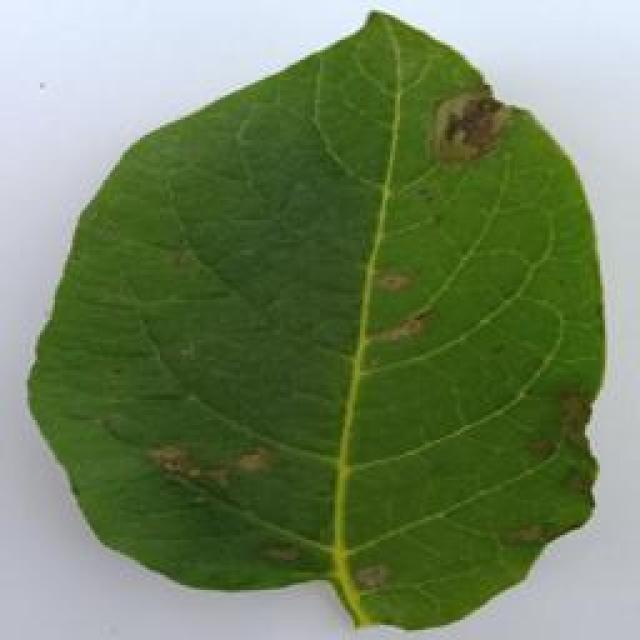Potato_Late_Blight: (24, 13, 614, 629)
